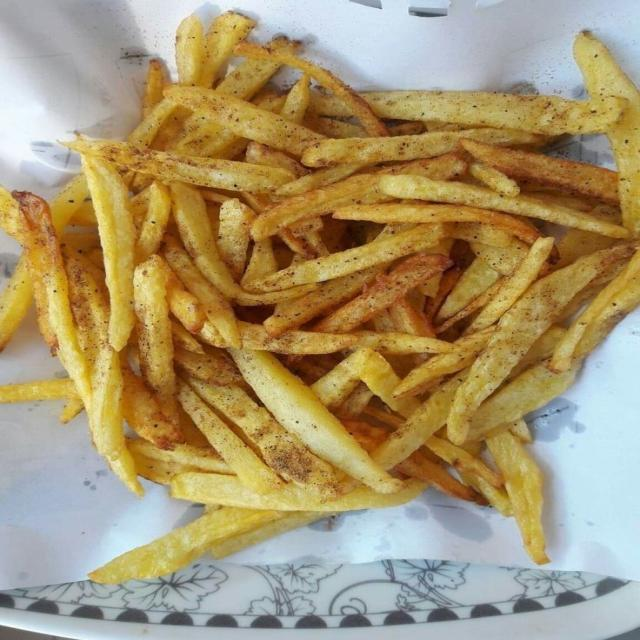potato fries: (0, 12, 639, 583), (447, 246, 632, 443), (231, 350, 401, 493), (379, 176, 628, 238), (574, 32, 639, 234), (252, 225, 443, 291), (66, 140, 293, 192), (362, 91, 627, 135), (165, 86, 321, 155), (314, 255, 452, 332), (460, 137, 619, 203), (171, 472, 426, 511), (83, 156, 134, 350), (302, 129, 539, 166), (487, 433, 548, 563), (134, 256, 177, 417), (0, 378, 77, 402)
